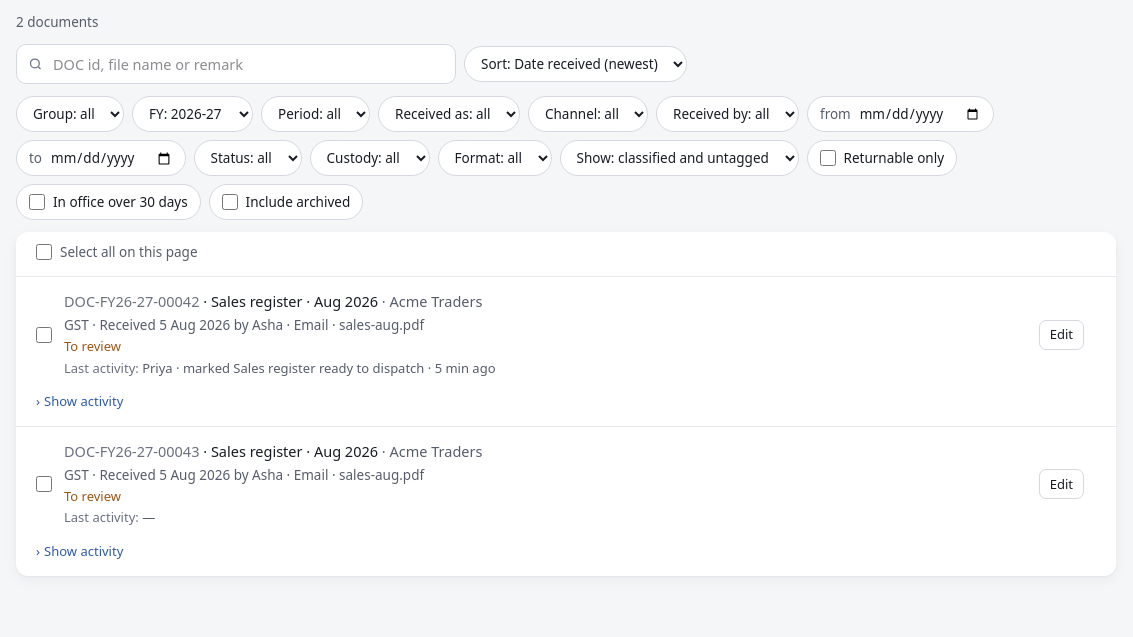
expanded row (AC-7) › no events: says so; an error shows inline with Retry
Click the button with aria-label "Show activity for DOC-FY26-27-00042" at coordinates (80, 402), box [36,392,123,412]
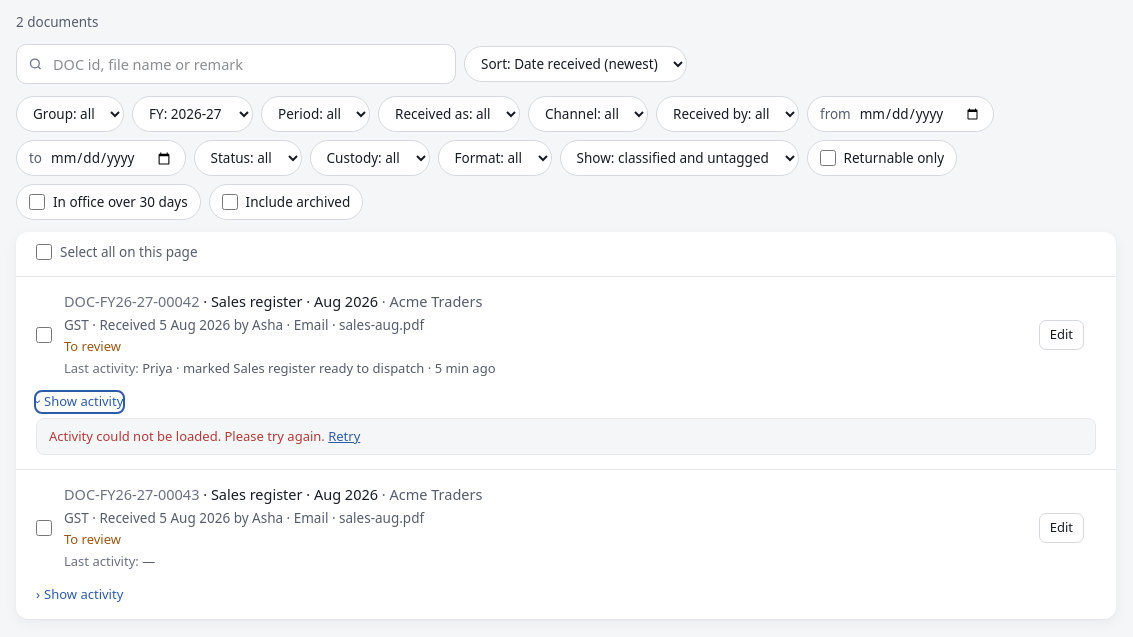
Result: the message shows "Activity could not be loaded" at [49,427,325,445]
Click the button "Retry" at coordinates (344, 437), box [328,427,360,446]
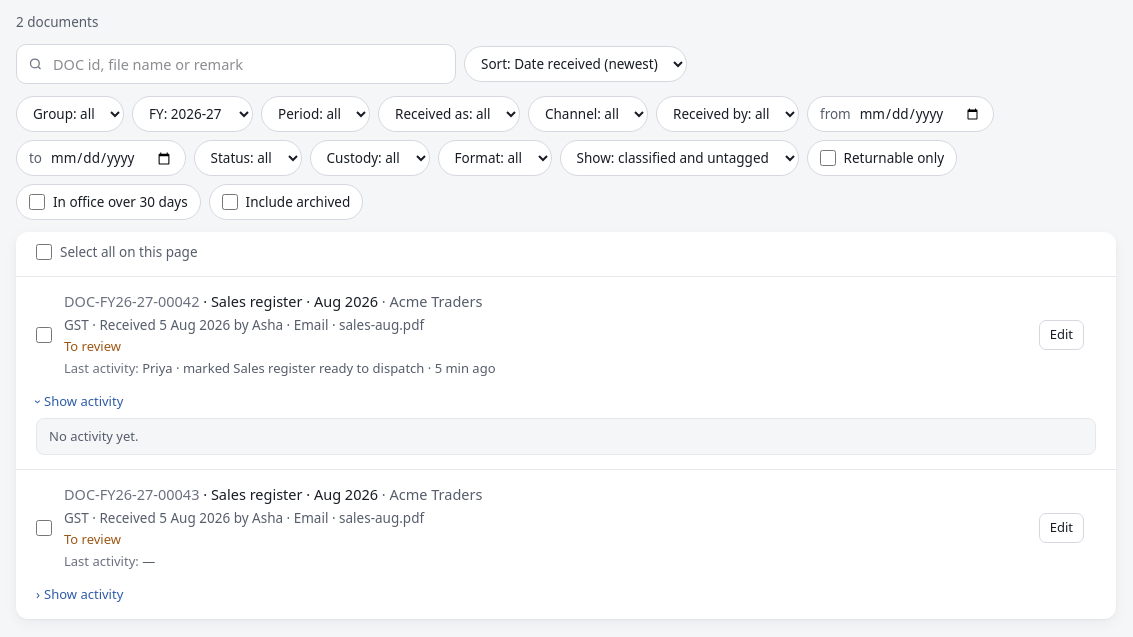
Result: the text "No activity yet." is shown at [49,427,138,445]
